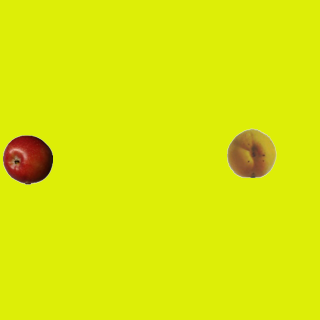Apple Braeburn: (2, 134, 52, 184)
Peach 2: (226, 127, 276, 177)
